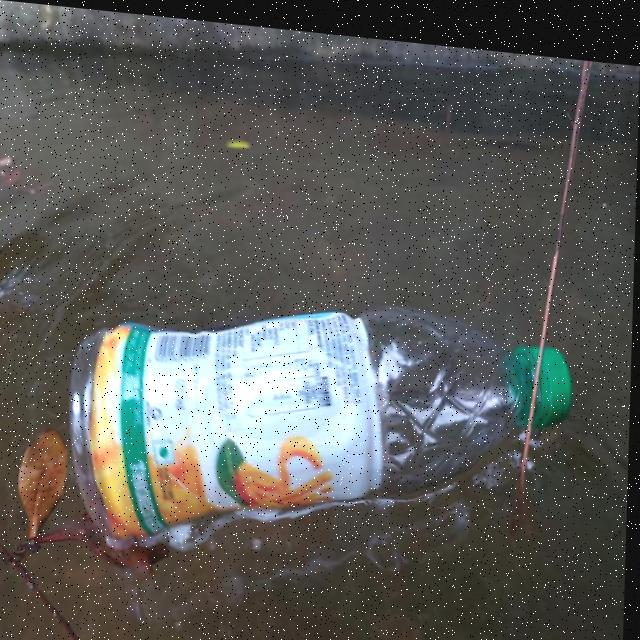leaf: (0, 422, 76, 573), (78, 515, 162, 580), (275, 610, 360, 640)
waterbottle: (67, 271, 579, 529)
